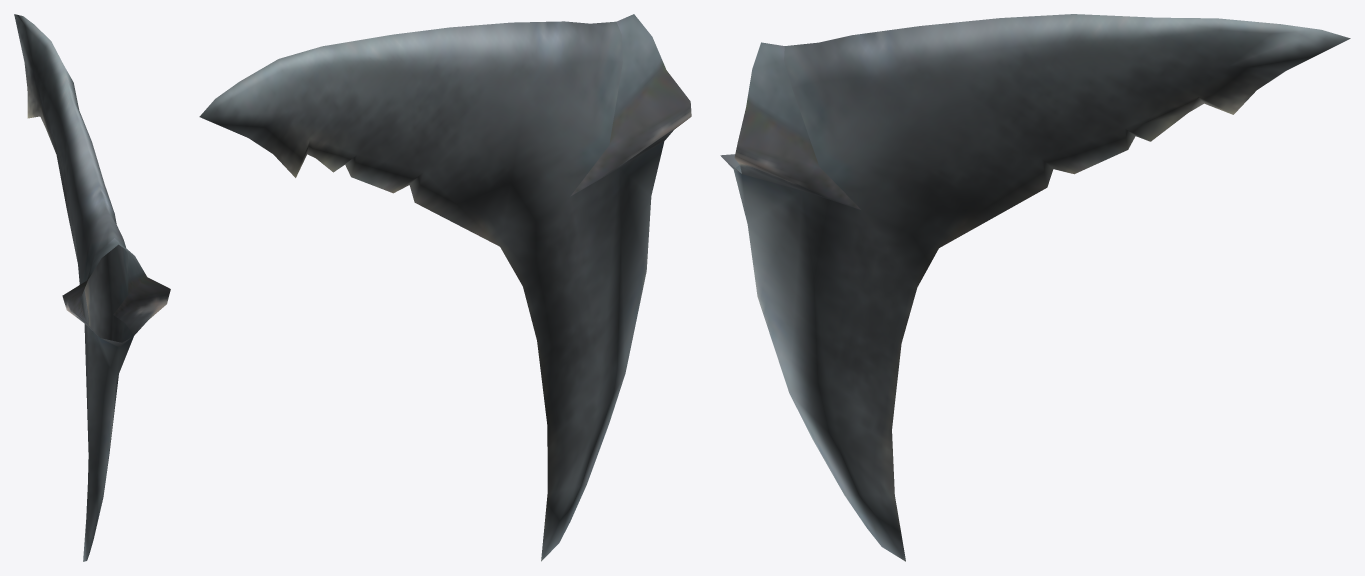
The model's file is ColaTiburon.obj.
The picture shows the model from 3 angles, left to right: view 1: azimuth 30°, elevation 25°; view 2: azimuth 150°, elevation 25°; view 3: azimuth 270°, elevation 25°; orthographic projection. The views are drawn at different scales.
Parts seen in each view (by area): view 1: ColaTiburon_; view 2: ColaTiburon_; view 3: ColaTiburon_.
Boxes of the visible parts, x1=… form: ColaTiburon_: x1=14, y1=14, x2=170, y2=561; ColaTiburon_: x1=199, y1=14, x2=691, y2=561; ColaTiburon_: x1=720, y1=14, x2=1350, y2=561.
Size of the model in its own units: 5.36 by 14.22 by 13.6.
Materials: 1 (1 with a texture image).
